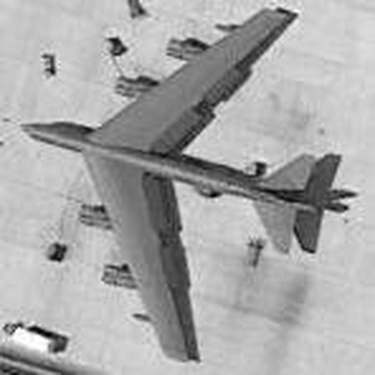airplane: (5, 1, 357, 367)
